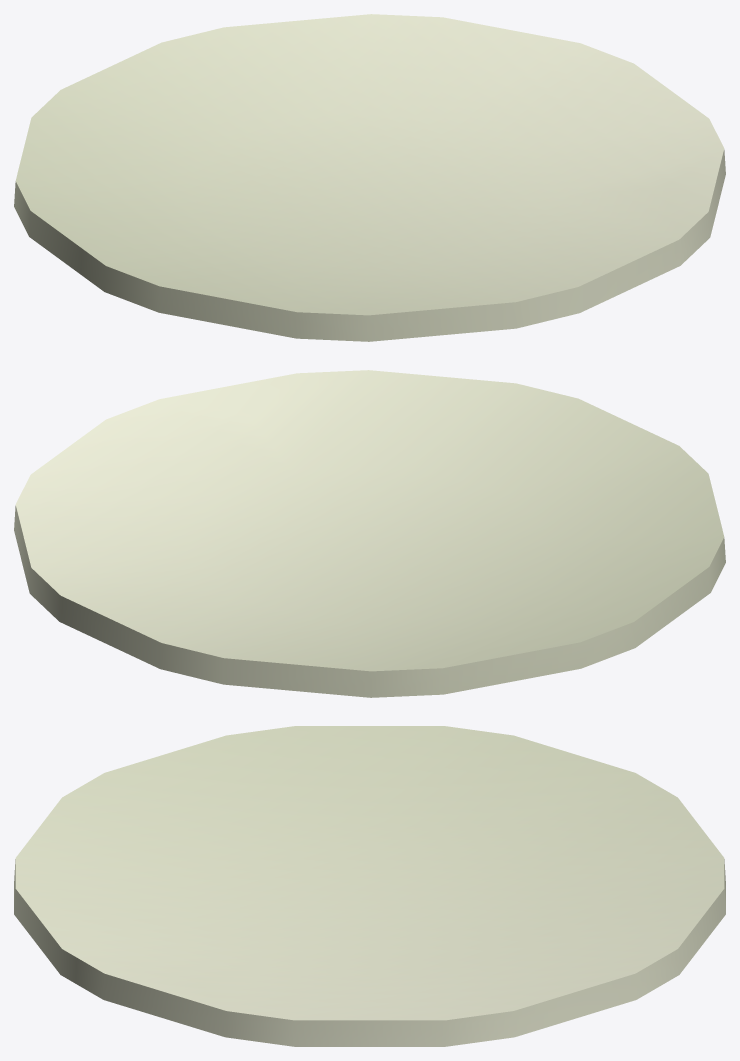
File: Plate_E.FBX
3 views of the same model, one above another, from view 1: azimuth 30°, elevation 25°; view 2: azimuth 150°, elevation 25°; view 3: azimuth 270°, elevation 25° (orthographic).
Visible parts, largest first — view 1: Plate; view 2: Plate; view 3: Plate.
Part boxes in pixels (bbox=[...]): Plate: bbox=[14, 14, 725, 341]; Plate: bbox=[14, 370, 725, 697]; Plate: bbox=[14, 726, 725, 1046].
Bounding box in the file's own units: 105 × 4.28 × 107.
